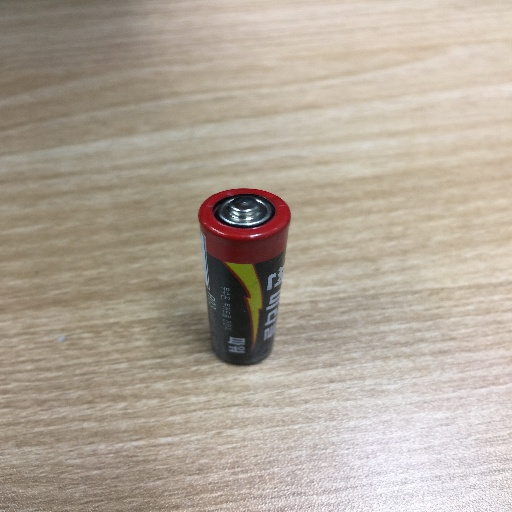Battery_0: (198, 177, 299, 378)
